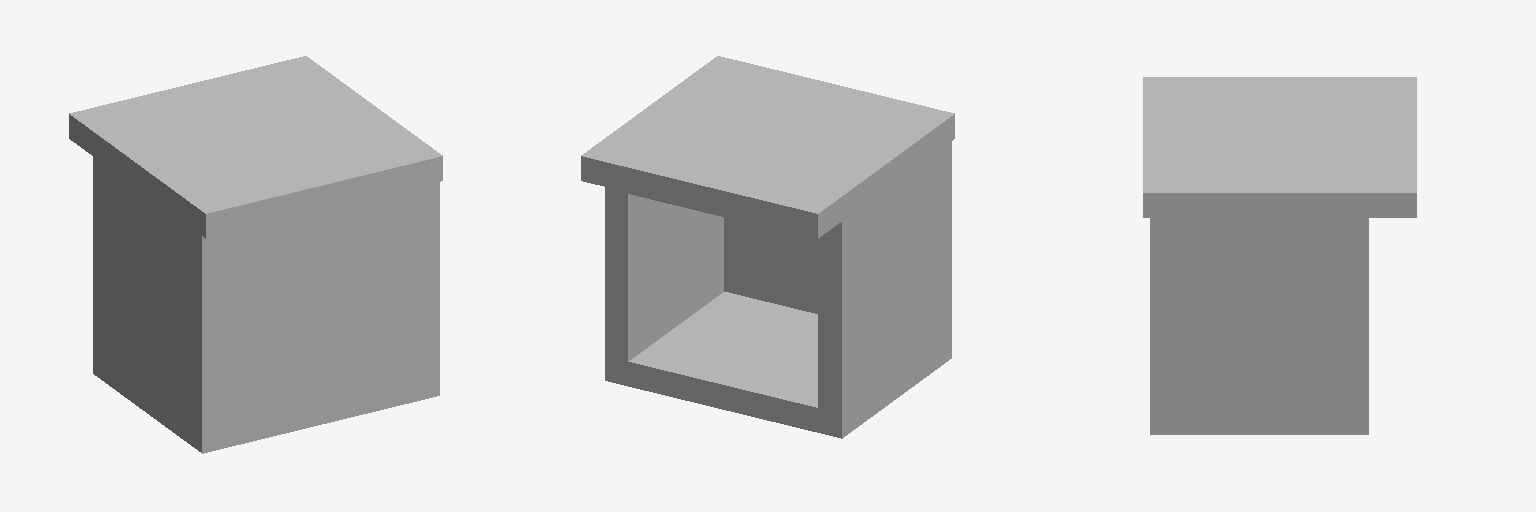
Rendered from oven_body_collider.obj.
The picture shows the model from 3 angles: view 1: azimuth 30°, elevation 25°; view 2: azimuth 150°, elevation 25°; view 3: azimuth 270°, elevation 25°; orthographic projection.
Parts seen in each view (by area): view 1: oven_collider_2_Cube.007, oven_collider_3_Cube.006, oven_collider_4_Cube.003, oven_collider_1_Cube.008, oven_collider_6_Cube.008, oven_collider_5_Cube.003; view 2: oven_collider_3_Cube.006, oven_collider_4_Cube.003, oven_collider_1_Cube.008, oven_collider_5_Cube.003, oven_collider_2_Cube.007, oven_collider_6_Cube.008; view 3: oven_collider_3_Cube.006, oven_collider_5_Cube.003, oven_collider_1_Cube.008, oven_collider_6_Cube.008, oven_collider_2_Cube.007.
Part boxes in pixels (x1,y1,x2,y2): oven_collider_2_Cube.007: (189,182,439,453); oven_collider_3_Cube.006: (69,56,442,238); oven_collider_4_Cube.003: (93,153,225,452); oven_collider_1_Cube.008: (93,350,439,453); oven_collider_6_Cube.008: (93,157,439,260); oven_collider_5_Cube.003: (416,183,439,387); oven_collider_3_Cube.006: (581,56,954,238); oven_collider_4_Cube.003: (818,135,951,437); oven_collider_1_Cube.008: (605,292,951,438); oven_collider_5_Cube.003: (605,188,723,385); oven_collider_2_Cube.007: (724,136,951,361); oven_collider_6_Cube.008: (605,157,946,245); oven_collider_3_Cube.006: (1143,77,1416,217); oven_collider_5_Cube.003: (1150,211,1368,434); oven_collider_1_Cube.008: (1150,410,1368,434); oven_collider_6_Cube.008: (1150,218,1368,241); oven_collider_2_Cube.007: (1150,211,1176,434).
Size of the model in its own units: 2 by 1.95 by 2.